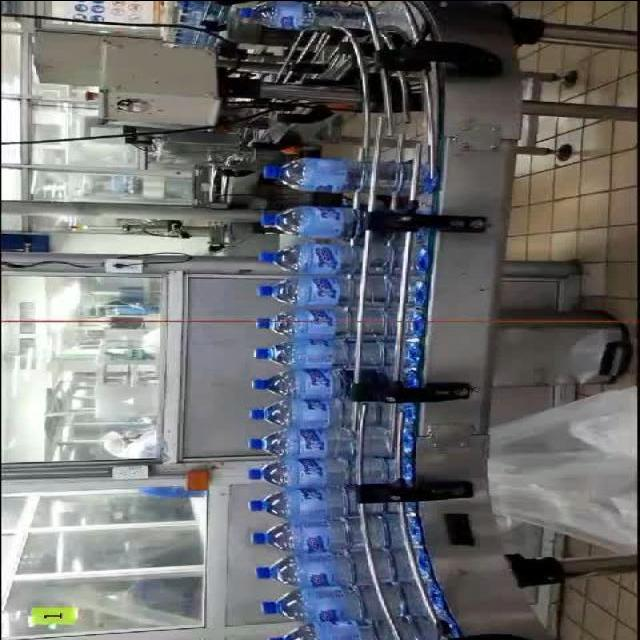bottle: (259, 583, 426, 625), (248, 513, 403, 555), (261, 155, 413, 196), (254, 366, 398, 406), (253, 550, 399, 589), (246, 425, 393, 460), (238, 0, 413, 29), (246, 456, 395, 490), (250, 396, 398, 430), (252, 304, 399, 338), (255, 333, 390, 368), (256, 269, 394, 301), (258, 203, 361, 240), (256, 241, 362, 276)
